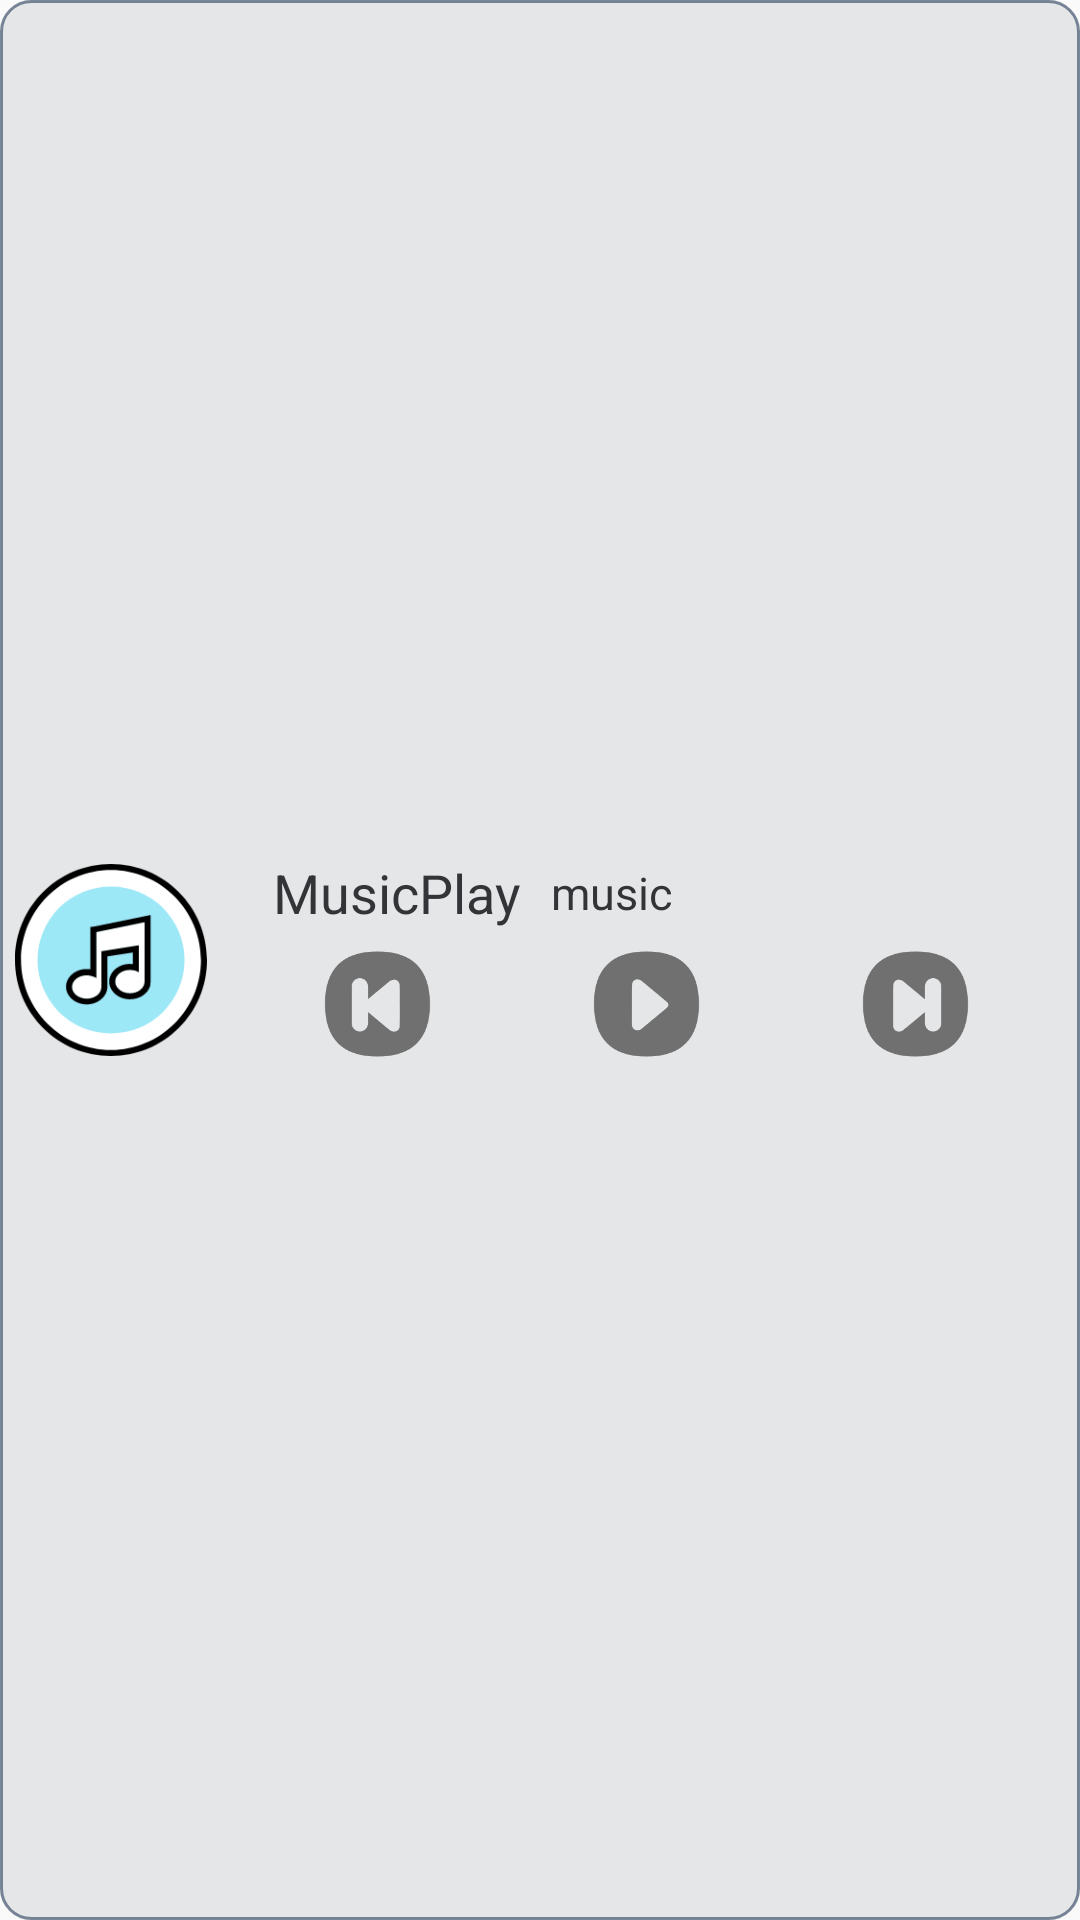

Screen size 1080*1920. Icon name, then its box in pixels as (x1, y1, x2, y2):
set notify next style: (863, 951, 968, 1057)
set notify play style: (594, 951, 699, 1057)
set notify pre style: (325, 951, 430, 1057)
